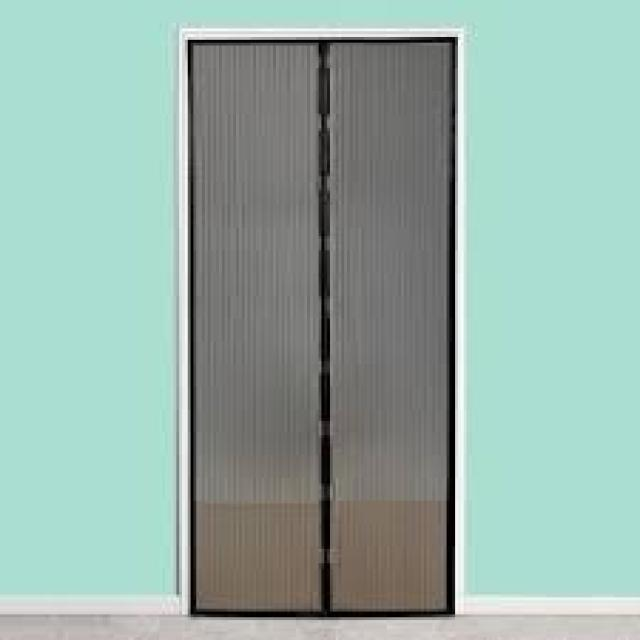door: (185, 28, 458, 618)
